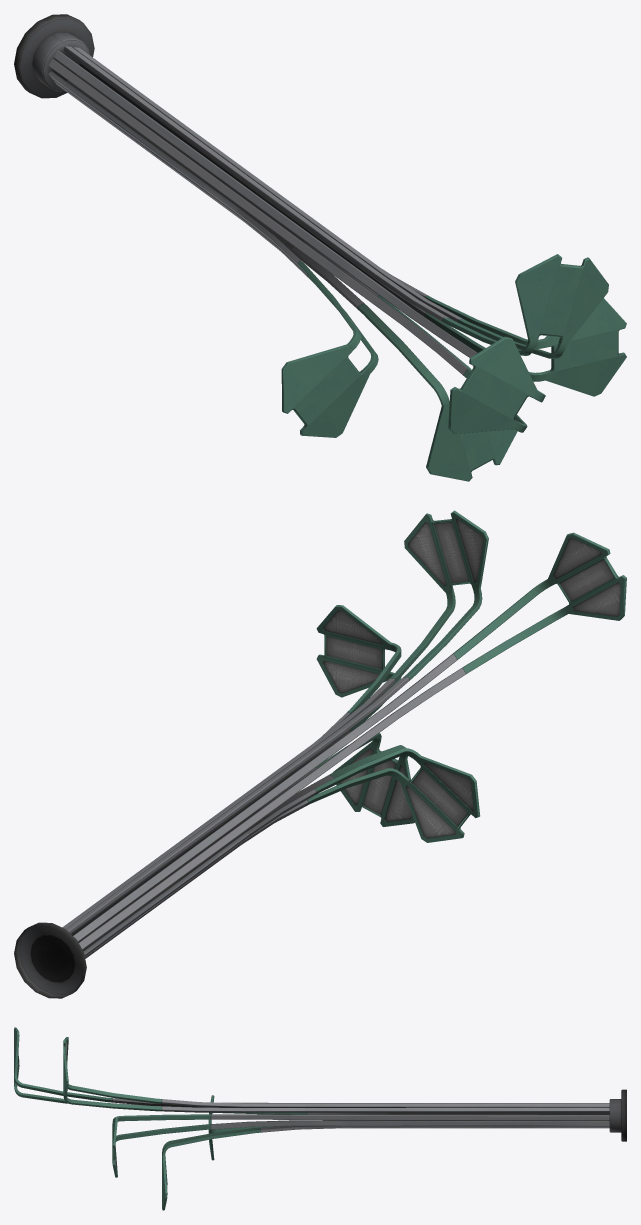
File: nt_2020_streetlight_01_LOD0.obj
The picture shows the model from 3 angles, top to bottom: view 1: azimuth 30°, elevation 25°; view 2: azimuth 150°, elevation 25°; view 3: azimuth 270°, elevation 25°; orthographic projection. The views are drawn at different scales.
Visible parts, largest first — view 1: mtl_nt_2020_streetlights_01; view 2: mtl_nt_2020_streetlights_01; view 3: mtl_nt_2020_streetlights_01.
Boxes of the visible parts, box(x1,y1,x2,y2) form: mtl_nt_2020_streetlights_01: box(14, 14, 626, 481); mtl_nt_2020_streetlights_01: box(14, 510, 626, 998); mtl_nt_2020_streetlights_01: box(14, 1027, 626, 1210).
Size of the model in its own units: 232 by 242 by 797.
